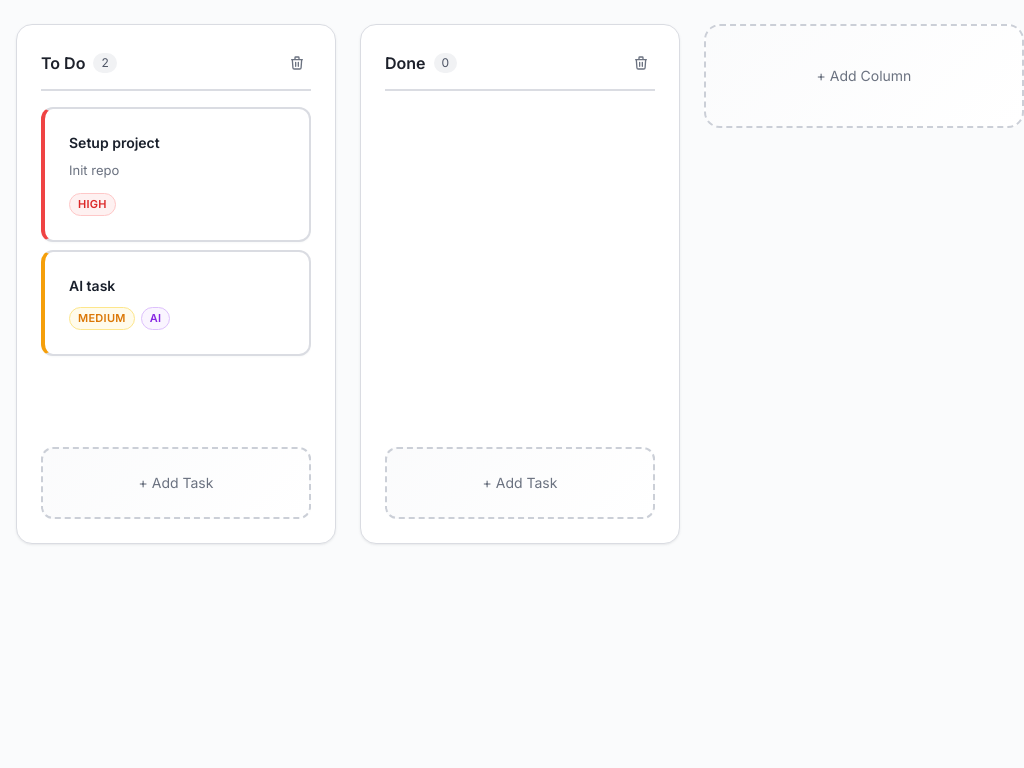
Scenario: Board › opens add column modal
The width and height of the screenshot is (1024, 768).
What coordinates should you click on to do the following:
click the button "+ Add Column"
I would click on:
 (864, 76)
Its box is [704,24,1023,128].
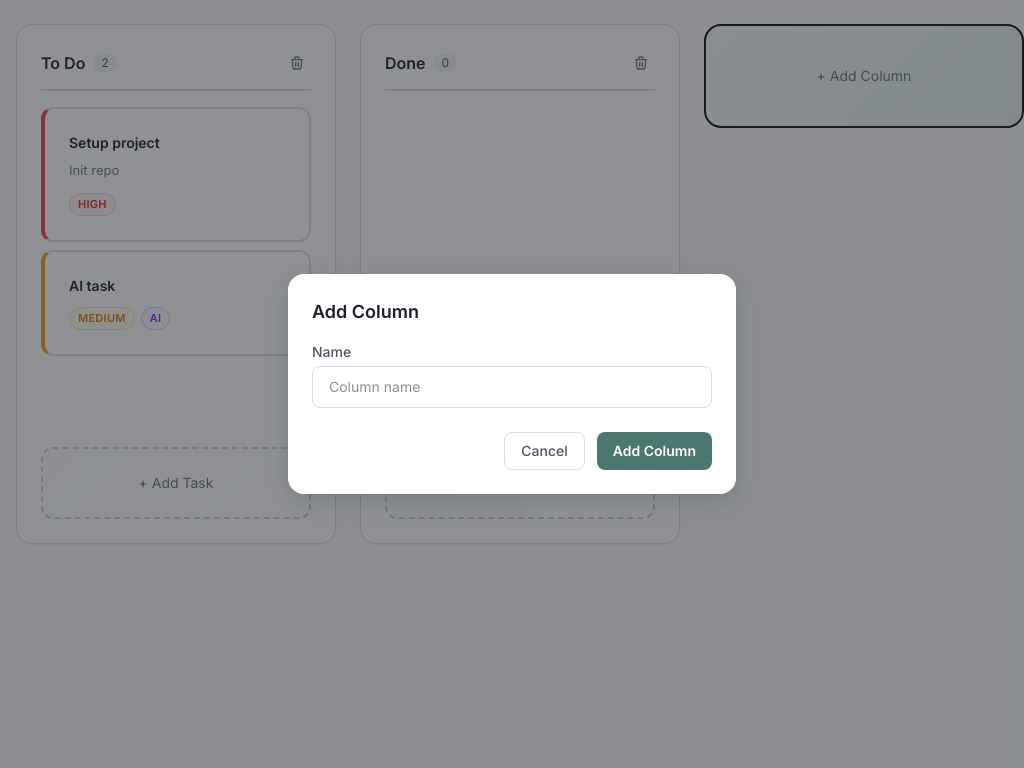
Check: the field labelled "Name" is shown, box [312,366,712,408]
